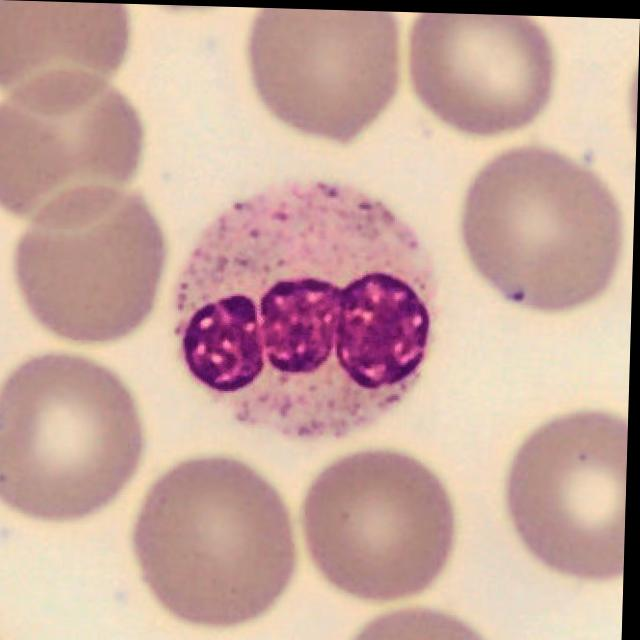Neutrofilo segmentado: (180, 180, 433, 432)
